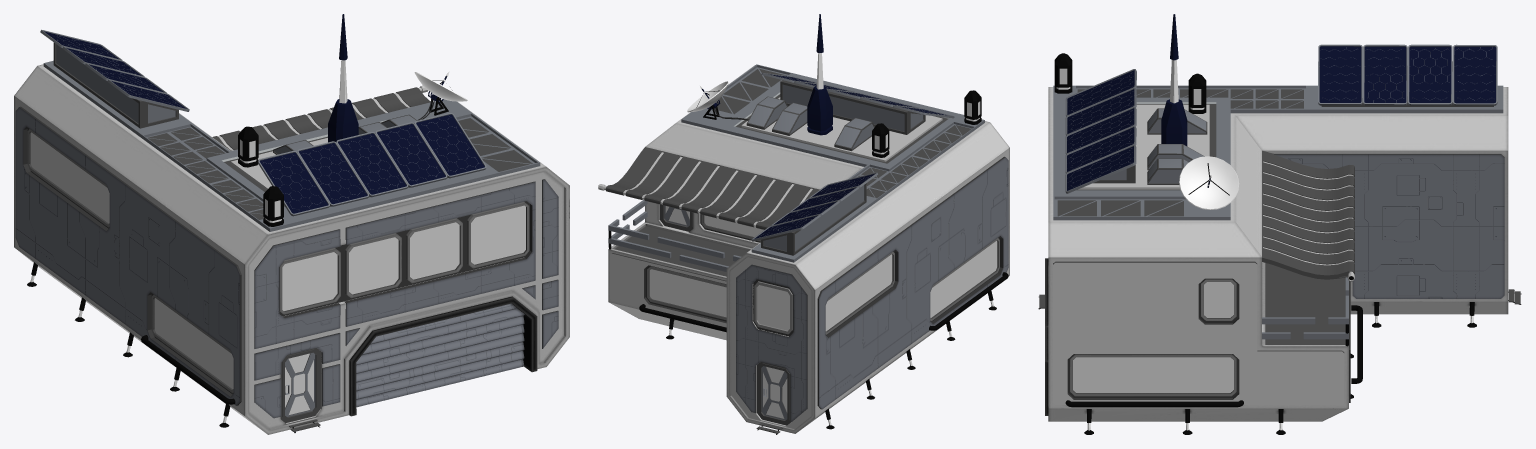
The model's file is Sci_Texture A_Baking_2.fbx.
3 views of the same model, side by side, from view 1: azimuth 30°, elevation 25°; view 2: azimuth 150°, elevation 25°; view 3: azimuth 270°, elevation 25° (orthographic). The views are drawn at different scales.
Parts seen in each view (by area): view 1: Cube.018, Cube.014, Cube.007, Cube.001, Cube.028, Cube.013, Cube.025, Cube.029, Cube.011, Cube.027, Cube.002, Cube.005 (+4 smaller); view 2: Cube.018, Cube.014, Cube.011, Cube.007, Cube.025, Cube.019, Cube.026, Cube.020, Cube.022, Cube.029, Cube.027, Cube.012 (+7 smaller); view 3: Cube.018, Cube.017, Cube.003, Cube.029, Cube.011, Cube.025, Cube.007, Cube.028, Cube.024, Cube.022, Cube.021, Cube.023 (+2 smaller).
Boxes of the visible parts, <box> form: Cube.018: <box>14,64,569,434</box>; Cube.014: <box>15,106,241,405</box>; Cube.007: <box>27,128,529,394</box>; Cube.001: <box>254,179,558,418</box>; Cube.028: <box>258,113,486,216</box>; Cube.013: <box>356,303,524,407</box>; Cube.025: <box>43,60,540,231</box>; Cube.029: <box>40,29,189,111</box>; Cube.011: <box>212,85,430,150</box>; Cube.027: <box>53,42,178,128</box>; Cube.002: <box>349,296,537,416</box>; Cube.005: <box>280,348,320,423</box>; Cube.018: <box>608,65,1009,434</box>; Cube.014: <box>817,156,1008,409</box>; Cube.011: <box>598,147,819,229</box>; Cube.007: <box>645,214,999,335</box>; Cube.025: <box>681,64,984,262</box>; Cube.019: <box>736,264,807,421</box>; Cube.026: <box>780,80,925,134</box>; Cube.020: <box>610,253,726,327</box>; Cube.022: <box>746,96,874,151</box>; Cube.029: <box>751,172,877,241</box>; Cube.027: <box>761,183,866,255</box>; Cube.012: <box>608,200,741,271</box>; Cube.018: <box>1038,87,1521,434</box>; Cube.017: <box>1053,261,1344,405</box>; Cube.003: <box>1274,154,1504,298</box>; Cube.029: <box>1318,44,1497,105</box>; Cube.011: <box>1262,150,1354,281</box>; Cube.025: <box>1053,85,1503,220</box>; Cube.007: <box>1067,278,1239,397</box>; Cube.028: <box>1065,69,1136,193</box>; Cube.024: <box>1179,156,1239,209</box>; Cube.022: <box>1147,108,1207,184</box>; Cube.021: <box>1161,14,1187,145</box>; Cube.023: <box>1054,53,1206,113</box>.
Bounding box in the file's own units: 370 × 350 × 452.
